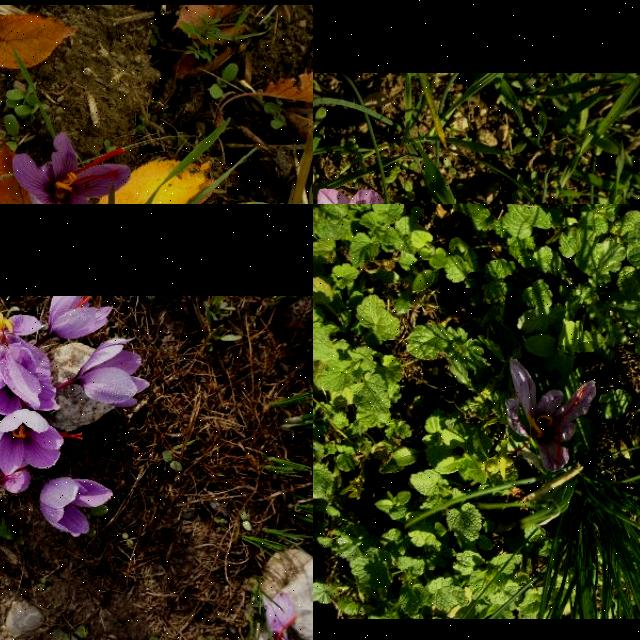flower: (505, 358, 597, 474), (13, 132, 131, 204), (0, 409, 84, 476), (74, 338, 150, 408), (0, 309, 47, 410), (40, 476, 114, 538), (244, 591, 313, 640), (49, 296, 114, 340)
overlap: (0, 309, 61, 531)
